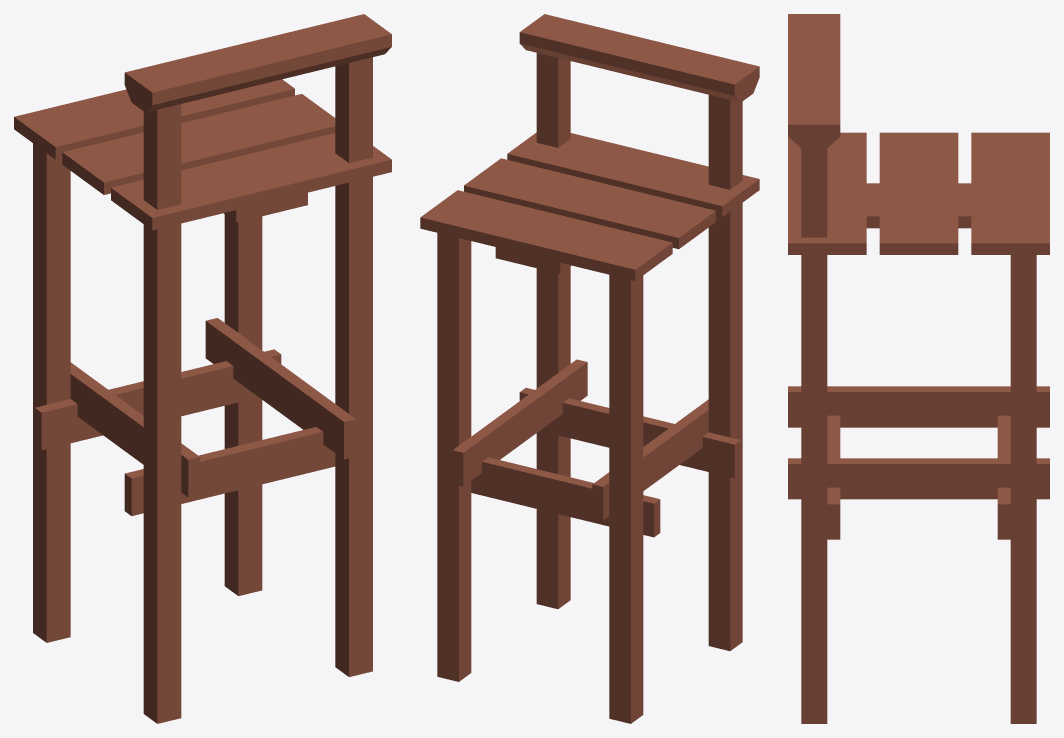
Rendered from scaffold_small_high_railing 1.fbx.
3 renders of one model, left to right at view 1: azimuth 30°, elevation 25°; view 2: azimuth 150°, elevation 25°; view 3: azimuth 270°, elevation 25°, orthographic. The views are drawn at different scales.
Visible parts, largest first — view 1: scaffold_small_high_railing; view 2: scaffold_small_high_railing; view 3: scaffold_small_high_railing.
Part boxes in pixels (box(x1,y1,x2,y2)): scaffold_small_high_railing: box(14, 14, 391, 723); scaffold_small_high_railing: box(420, 14, 759, 723); scaffold_small_high_railing: box(788, 14, 1049, 723).
Size of the model in its own units: 200 by 510 by 200.
